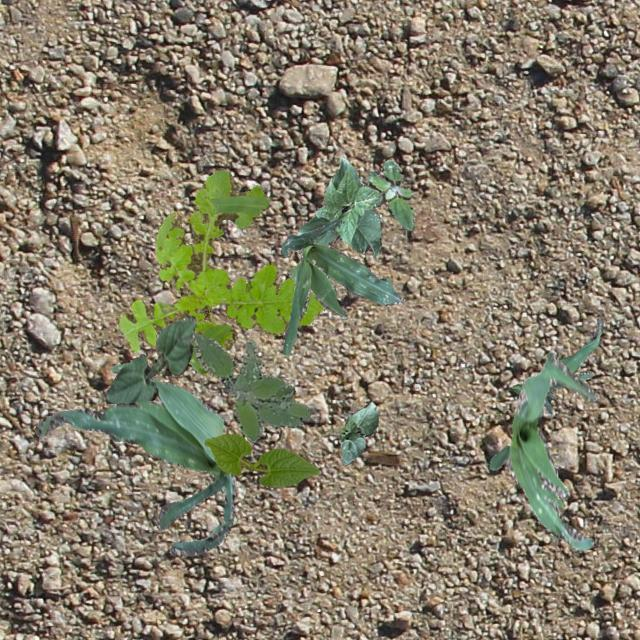crop: (34, 362, 235, 554), (488, 352, 596, 550), (280, 218, 402, 354), (511, 316, 602, 412), (296, 156, 382, 256), (104, 314, 194, 402), (204, 432, 318, 486), (340, 400, 378, 464)
weed: (115, 168, 322, 372), (192, 332, 310, 440), (366, 158, 414, 230)
